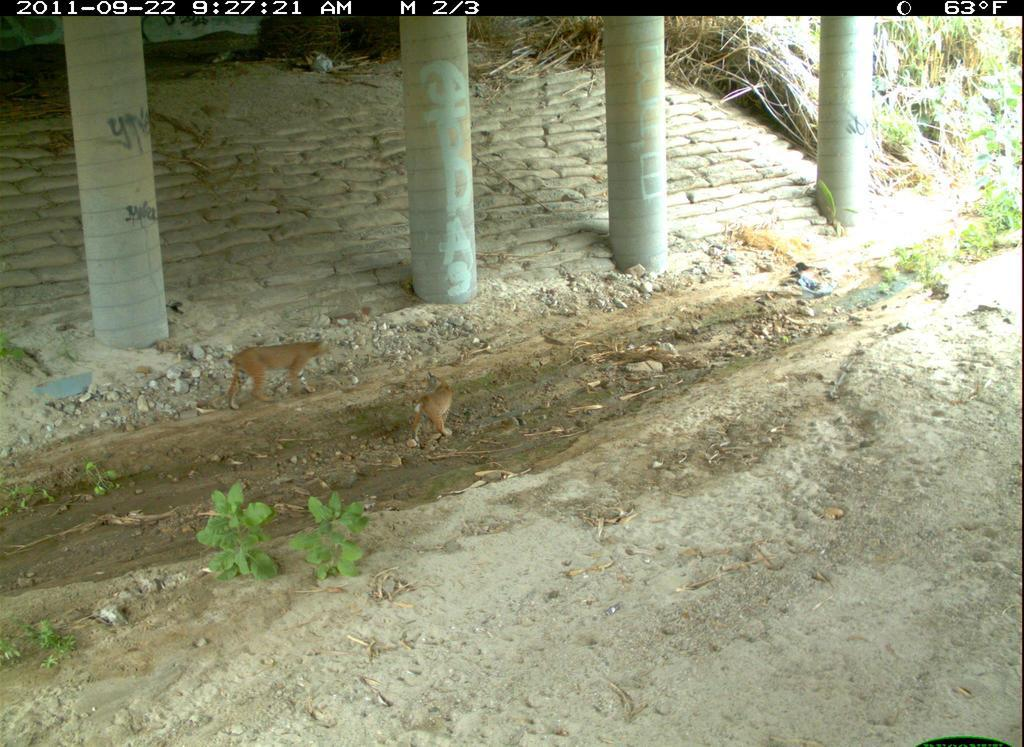bobcat: (442, 660, 677, 747), (807, 732, 928, 747)
